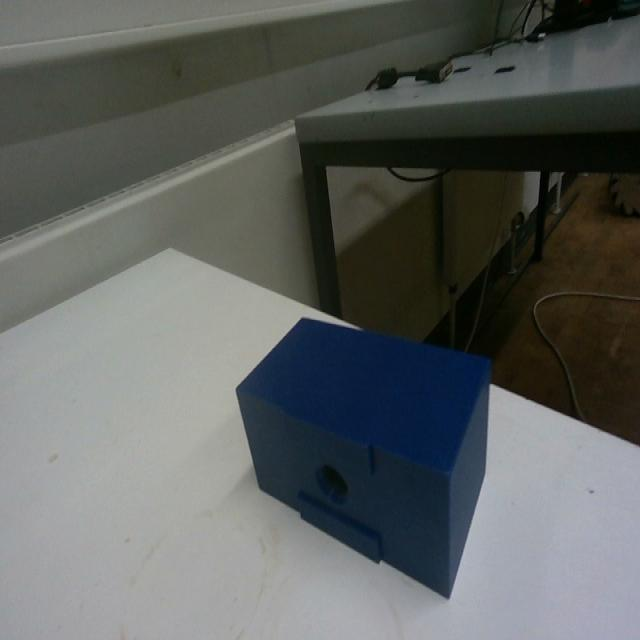Blue Cuboid: (233, 311, 494, 598)
